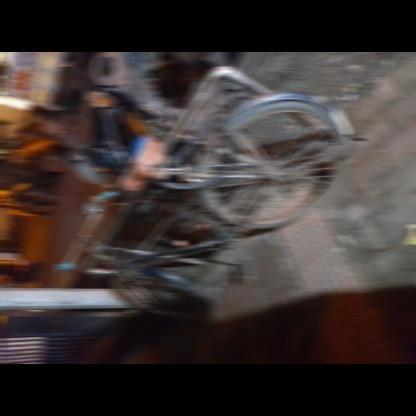Bicycle: (3, 52, 402, 359)
